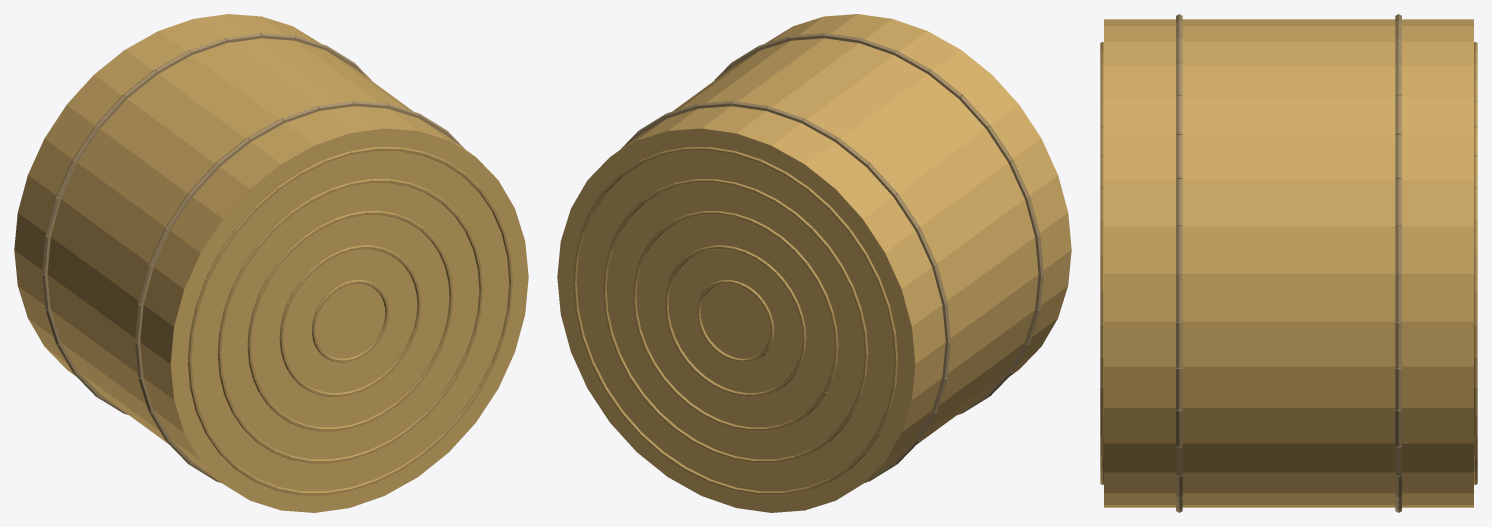
File: Thanksgiving_Round_Hay_Bale.glb
3 renders of one model, left to right at view 1: azimuth 30°, elevation 25°; view 2: azimuth 150°, elevation 25°; view 3: azimuth 270°, elevation 25°, orthographic. The views are drawn at different scales.
Visible parts, largest first — view 1: Large round hay bale; view 2: Large round hay bale; view 3: Large round hay bale.
Part boxes in pixels (x1,y1,x2,y2): Large round hay bale: [14, 14, 528, 512]; Large round hay bale: [557, 14, 1071, 512]; Large round hay bale: [1104, 19, 1473, 507].
Size of the model in its own units: 1.59 by 1.59 by 1.2.
